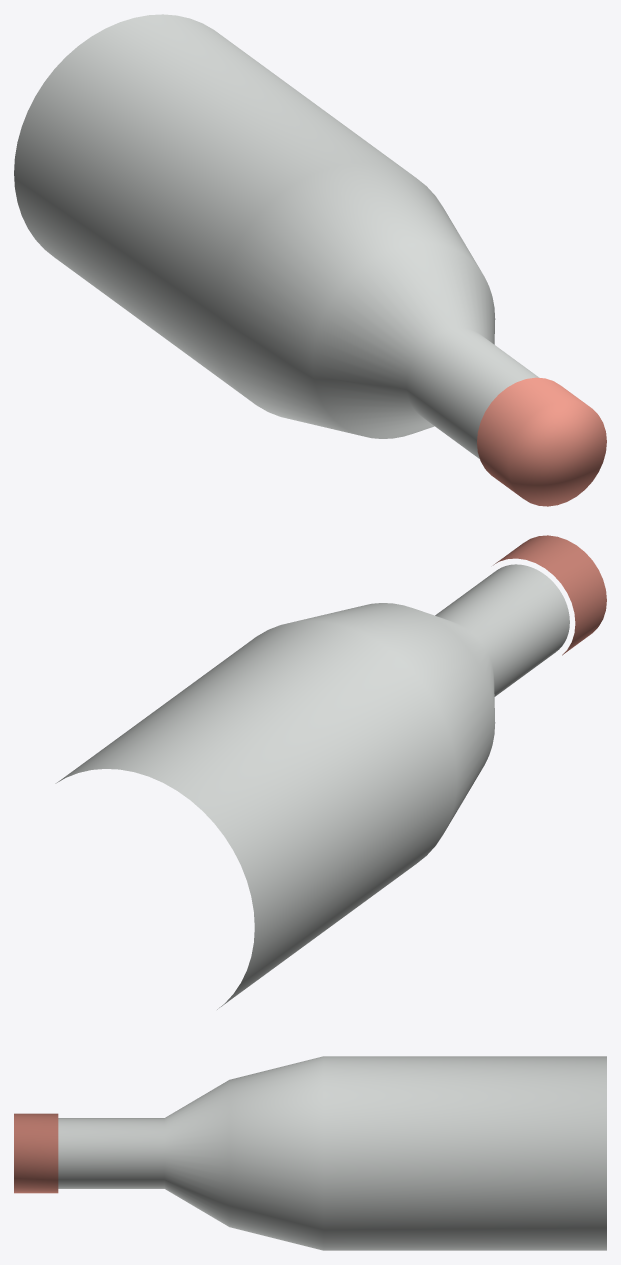
Rendered from bottle.glb.
3 views of the same model, one above another, from view 1: azimuth 30°, elevation 25°; view 2: azimuth 150°, elevation 25°; view 3: azimuth 270°, elevation 25° (orthographic). The views are drawn at different scales.
Parts seen in each view (by area): view 1: bottle, cap; view 2: bottle, cap; view 3: bottle, cap.
Boxes of the visible parts, left/top/right/bottom form: bottle: left=14, top=14, right=539, bottom=458; cap: left=477, top=377, right=606, bottom=506; bottle: left=55, top=564, right=569, bottom=1009; cap: left=493, top=535, right=606, bottom=655; bottle: left=58, top=1056, right=606, bottom=1250; cap: left=14, top=1113, right=58, bottom=1193.
Size of the model in its own units: 0.066 by 0.066 by 0.201.
